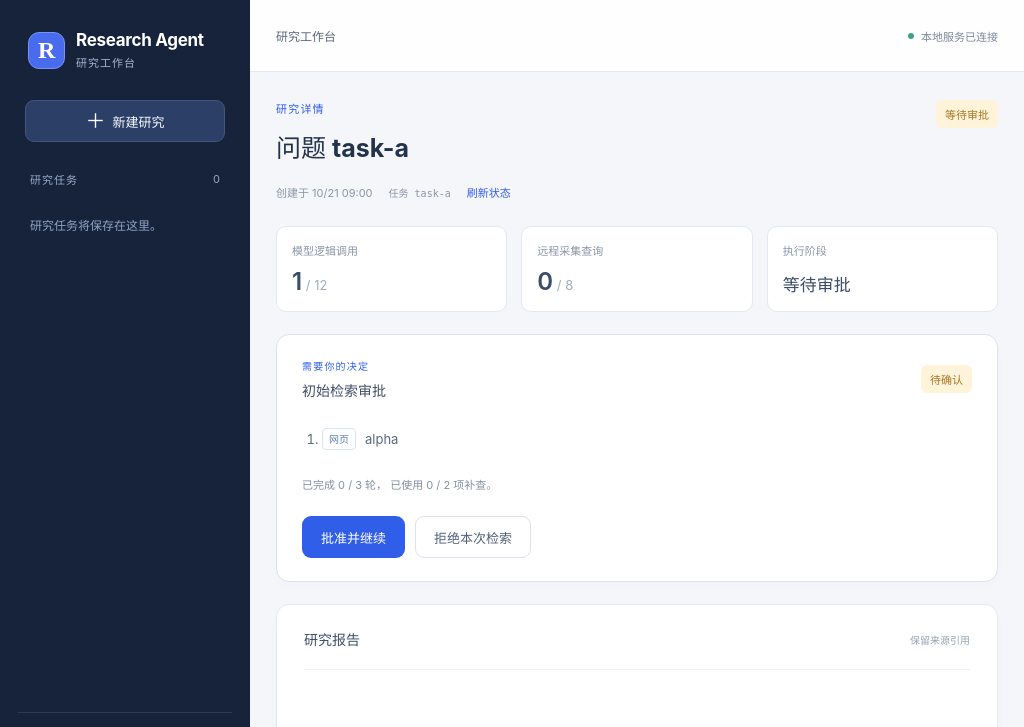
Scenario: 研究工作台 › 审批冲突会显示原因并刷新为新的审批状态
The width and height of the screenshot is (1024, 727).
Click the button "批准并继续".
click(354, 537)  # box x1=302 y1=516 x2=405 y2=558
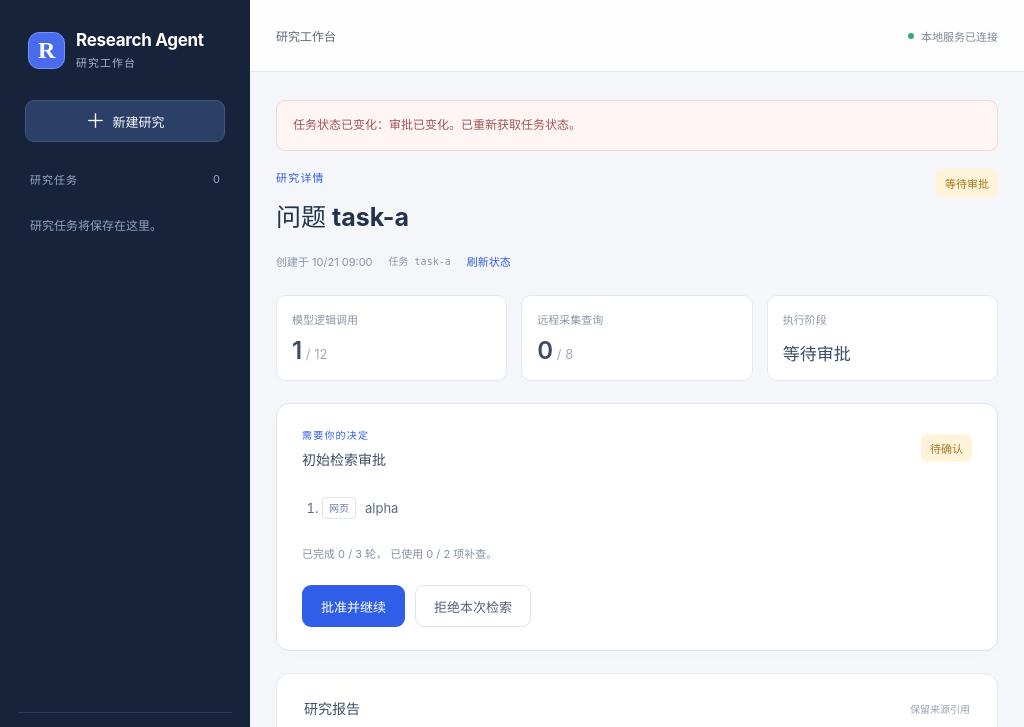
Check: the message "任务状态已变化：审批已变化。已重新获取任务状态。" is shown, box x1=276 y1=100 x2=998 y2=151
